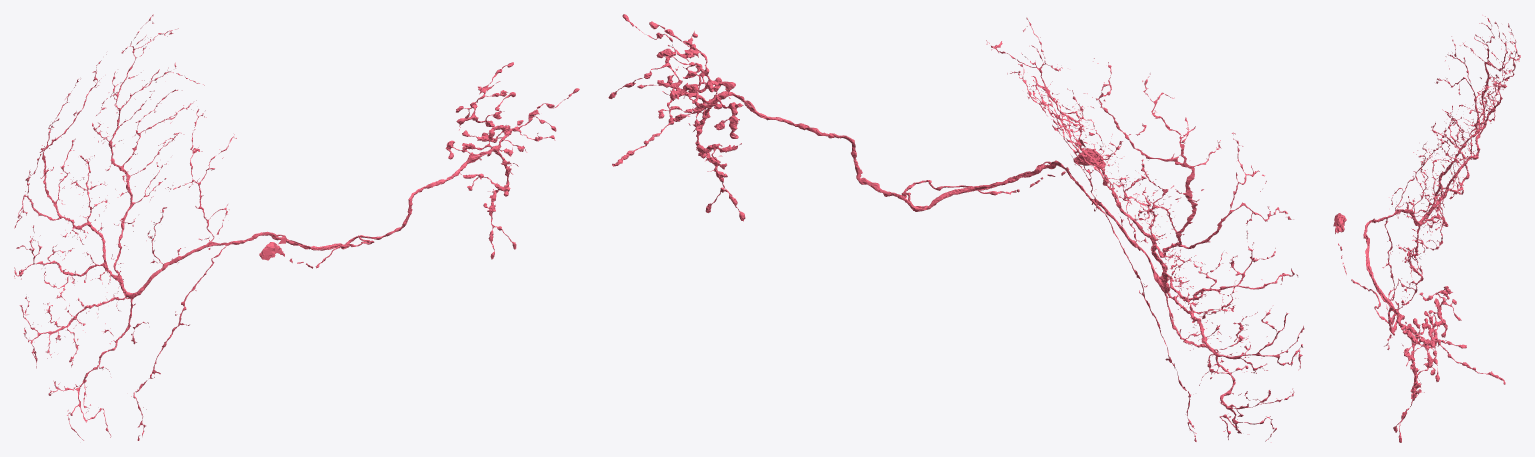
File: VFB_fw001311.glb
3 renders of one model, left to right at view 1: azimuth 30°, elevation 25°; view 2: azimuth 150°, elevation 25°; view 3: azimuth 270°, elevation 25°, orthographic. The views are drawn at different scales.
Visible parts, largest first — view 1: VFB_fw001311; view 2: VFB_fw001311; view 3: VFB_fw001311.
Boxes of the visible parts, x1=… form: VFB_fw001311: x1=14, y1=14, x2=579, y2=440; VFB_fw001311: x1=608, y1=14, x2=1304, y2=442; VFB_fw001311: x1=1333, y1=15, x2=1520, y2=442.
Bounding box in the file's own units: 0.1913 × 0.1209 × 0.0564.
